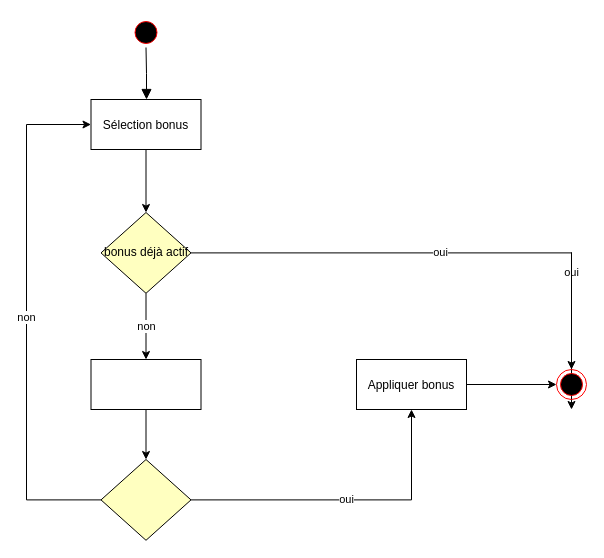
The diagram is 604 pixels wide and 558 high, and some of its shapes have lost their labels. Here are the shapes that lost their labels. From the top down, the centre of each, then its label:
[145,384]: Acheter bonus
[145,499]: Argent suffisant
